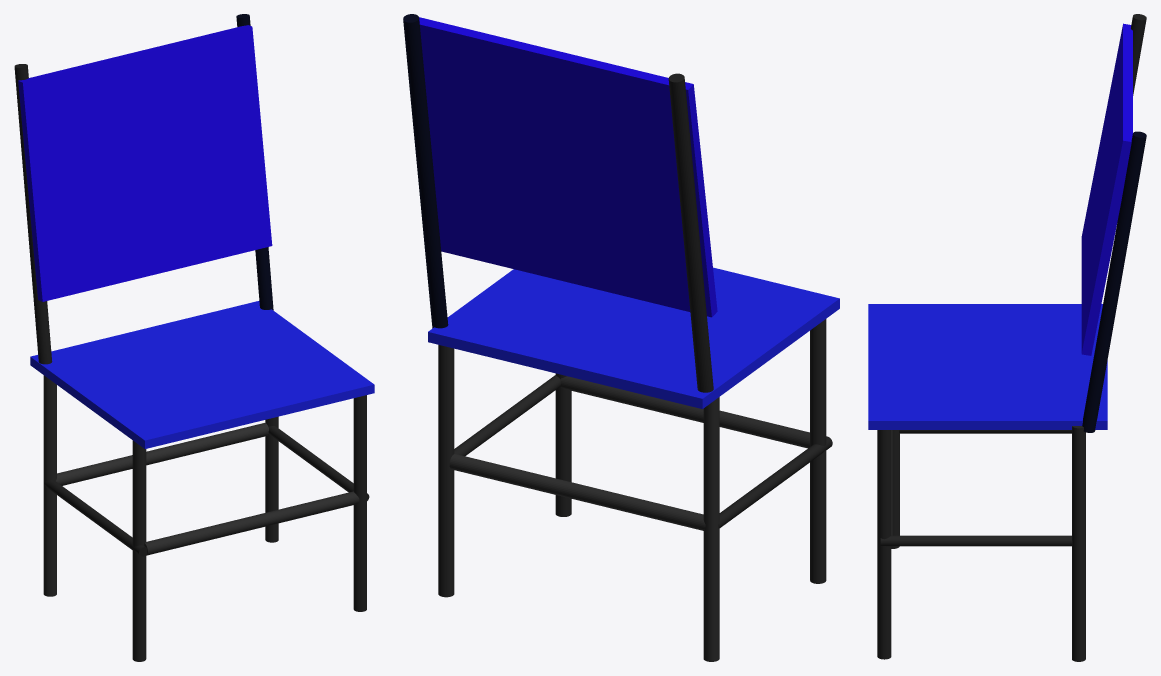
Rendered from Silla 1.fbx.
The picture shows the model from 3 angles, left to right: view 1: azimuth 30°, elevation 25°; view 2: azimuth 150°, elevation 25°; view 3: azimuth 270°, elevation 25°; orthographic projection. The views are drawn at different scales.
Visible parts, largest first — view 1: Cube.001; view 2: Cube.001; view 3: Cube.001.
Part boxes in pixels (x1,y1,x2,y2): Cube.001: [14, 14, 374, 661]; Cube.001: [403, 14, 839, 661]; Cube.001: [868, 14, 1146, 661].
Size of the model in its own units: 636 by 1318 by 628.
